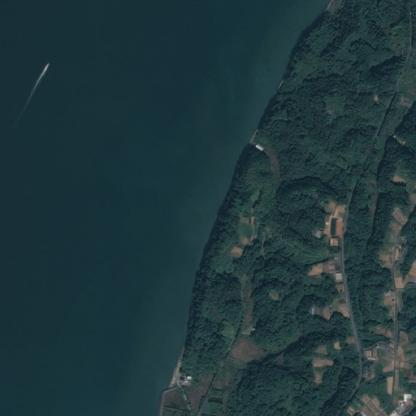ship: (38, 56, 54, 76)
